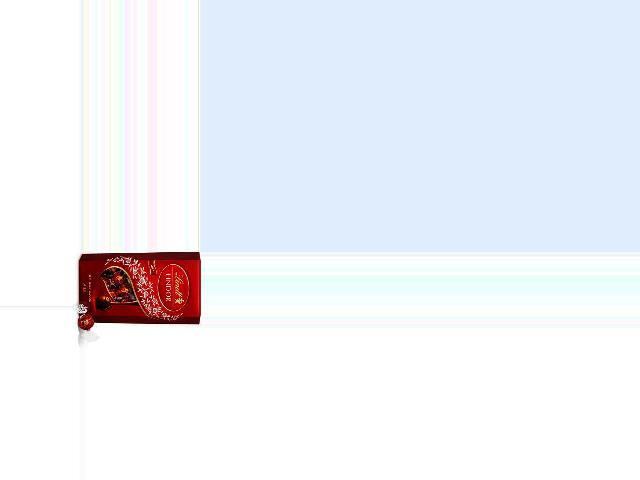chocolate: (79, 253, 200, 331)
